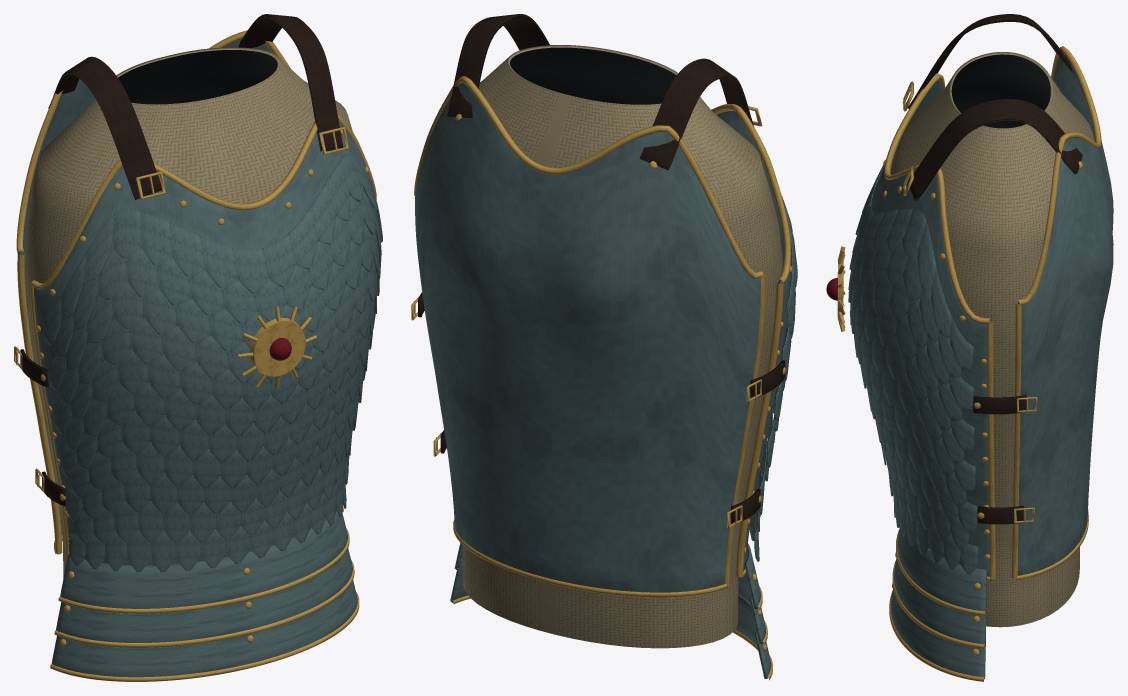
The picture shows the model from 3 angles, left to right: view 1: azimuth 30°, elevation 25°; view 2: azimuth 150°, elevation 25°; view 3: azimuth 270°, elevation 25°; orthographic projection. The views are drawn at different scales.
Visible parts, largest first — view 1: blued scale plate, quilted linen lining, gilded alloy, oiled strap leather, recess and lining; view 2: blued scale plate, quilted linen lining, gilded alloy, oiled strap leather, recess and lining; view 3: blued scale plate, quilted linen lining, gilded alloy, oiled strap leather, recess and lining.
Boxes of the visible parts, <box> form: blued scale plate: <box>18,39,382,677</box>; quilted linen lining: <box>25,47,352,578</box>; gilded alloy: <box>14,30,376,681</box>; oiled strap leather: <box>20,14,343,506</box>; recess and lining: <box>118,50,277,104</box>; blued scale plate: <box>415,82,797,678</box>; quilted linen lining: <box>463,45,782,648</box>; gilded alloy: <box>411,76,792,680</box>; oiled strap leather: <box>418,14,785,523</box>; recess and lining: <box>510,47,676,104</box>; blued scale plate: <box>848,55,1113,679</box>; quilted linen lining: <box>890,52,1094,627</box>; gilded alloy: <box>837,46,1101,681</box>; oiled strap leather: <box>907,14,1082,524</box>; recess and lining: <box>951,54,1050,128</box>.
Size of the model in its own units: 0.3921 by 0.6465 by 0.3038.
6 materials, 5 textured.
